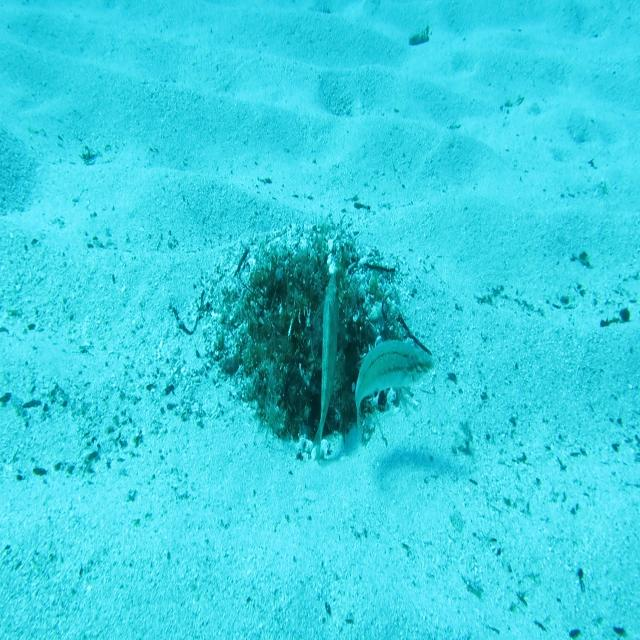FAN: (309, 272, 344, 464)
core_nest: (290, 261, 352, 310)
female: (354, 335, 436, 450)
nest: (200, 216, 424, 466)
vegetation: (405, 22, 434, 50)
